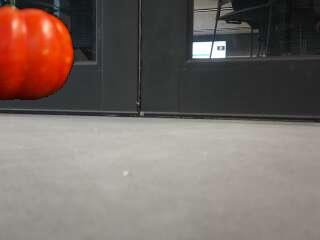Pumpkin: (1, 0, 76, 102)
